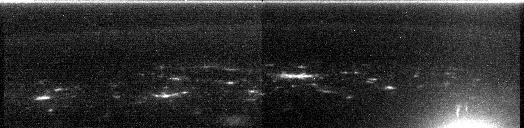positive: (451, 99, 472, 119)
